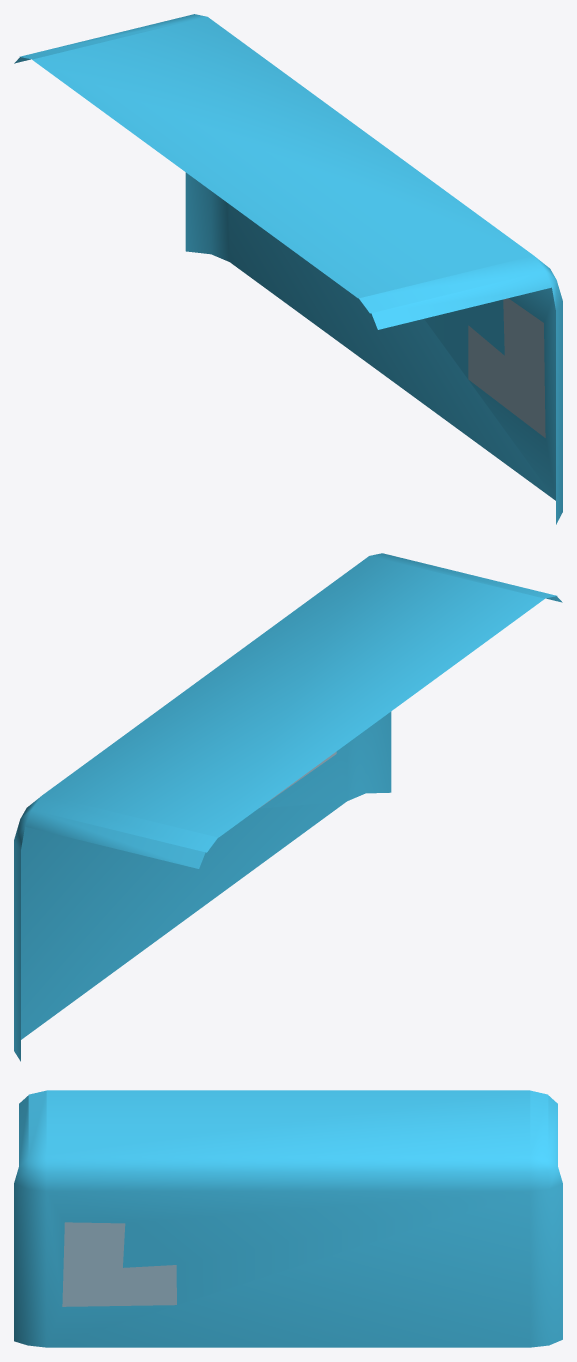
File: Handle_Hielo.glb
3 views of the same model, one above another, from view 1: azimuth 30°, elevation 25°; view 2: azimuth 150°, elevation 25°; view 3: azimuth 270°, elevation 25° (orthographic). The views are drawn at different scales.
Visible parts, largest first — view 1: Cube; view 2: Cube; view 3: Cube.
Boxes of the visible parts, box(x1,y1,x2,y2) form: Cube: box(14, 14, 562, 524); Cube: box(14, 553, 562, 1061); Cube: box(14, 1090, 562, 1347).
Bounding box in the file's own units: 0.6068 × 0.7399 × 1.96.
